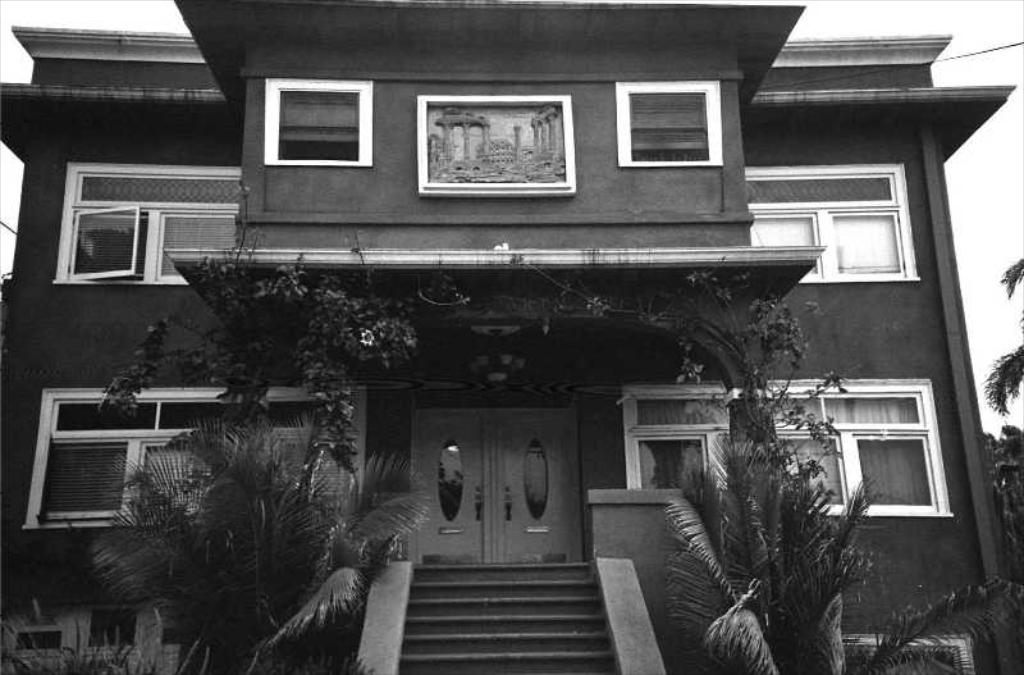Door: (493, 410, 585, 564), (413, 414, 481, 566)
